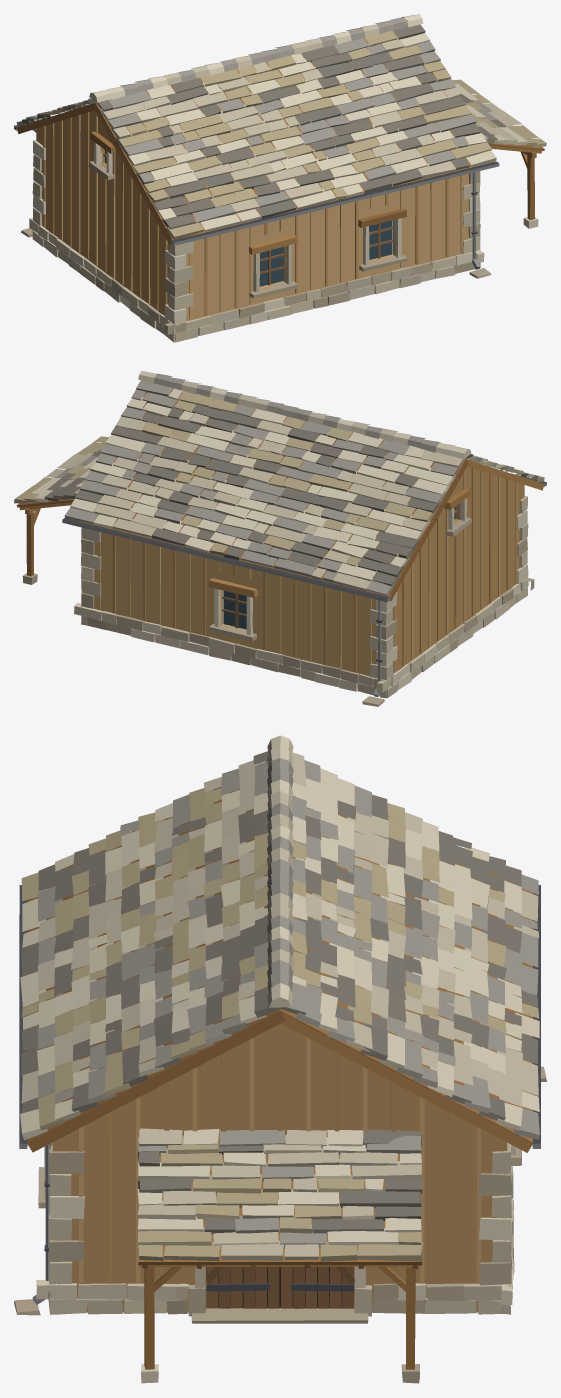
Rendered from scierie.glb.
3 renders of one model, top to bottom at view 1: azimuth 30°, elevation 25°; view 2: azimuth 150°, elevation 25°; view 3: azimuth 270°, elevation 25°, orthographic. The views are drawn at different scales.
Visible parts, largest first — view 1: scierie; view 2: scierie; view 3: scierie.
Boxes of the visible parts, bbox=[...] form: scierie: bbox=[14, 14, 546, 342]; scierie: bbox=[14, 371, 546, 706]; scierie: bbox=[14, 735, 546, 1383].
Size of the model in its own units: 13.65 by 6.39 by 9.39.
